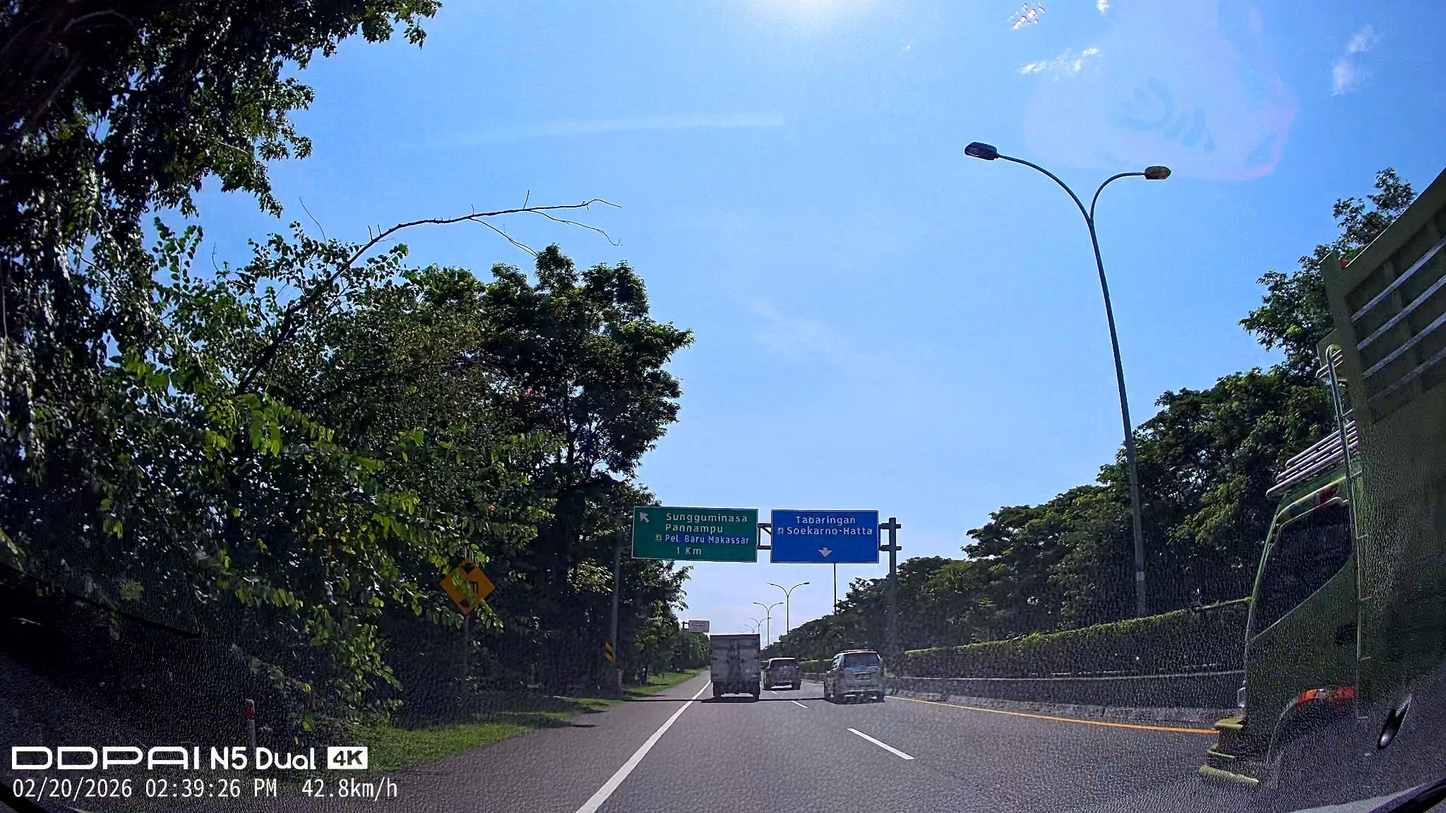rambu_teks: (631, 505, 759, 563), (771, 510, 879, 565)
